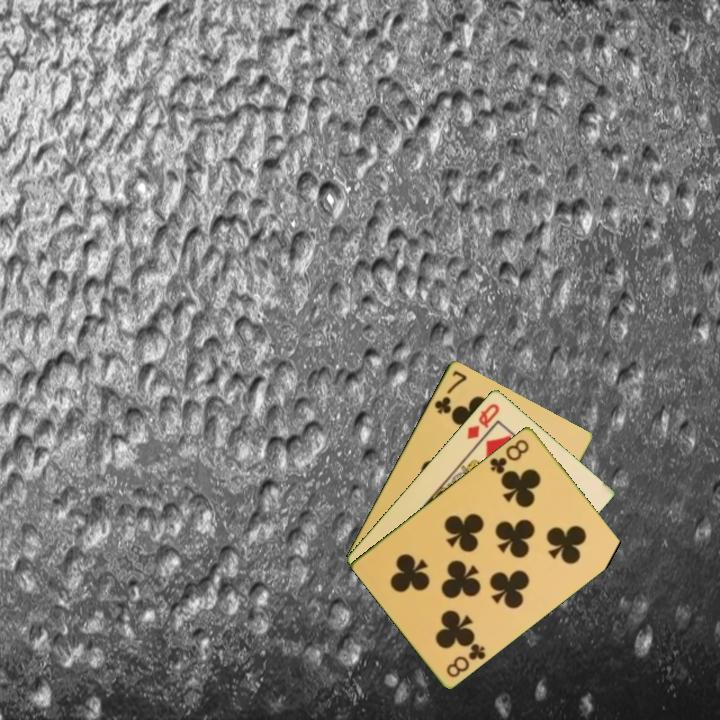7c: (431, 366, 470, 417)
8c: (486, 435, 532, 477), (443, 639, 489, 680)
Qd: (463, 399, 502, 442)
